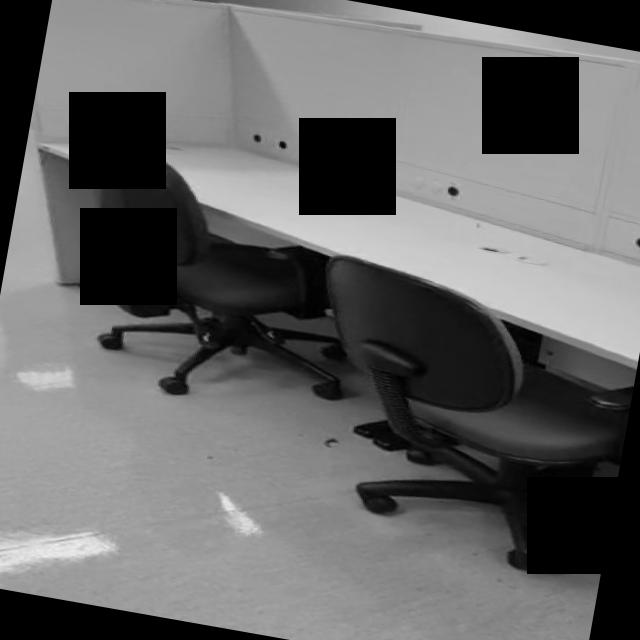cadeira-azul: (51, 136, 382, 423)
